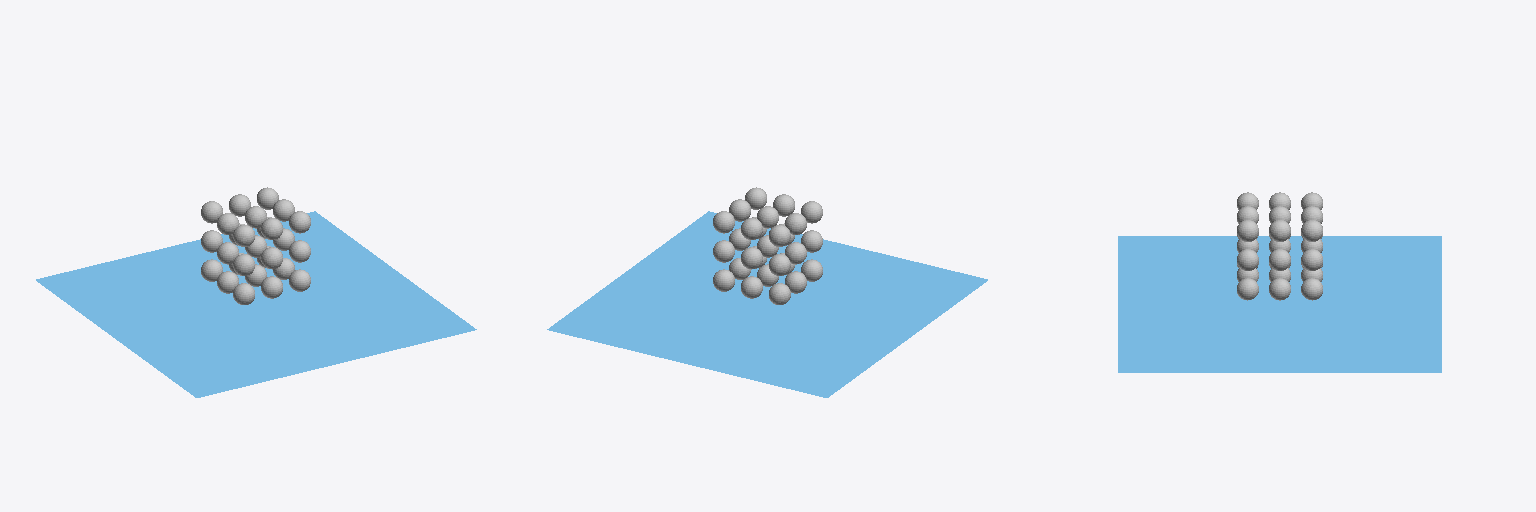
The picture shows the model from 3 angles: view 1: azimuth 30°, elevation 25°; view 2: azimuth 150°, elevation 25°; view 3: azimuth 270°, elevation 25°; orthographic projection.
Visible parts, largest first — view 1: 平面, 平面.011; view 2: 平面, 平面.011; view 3: 平面, 平面.011.
Part boxes in pixels (x1,y1,x2,y2): 平面: (36, 211, 476, 397); 平面.011: (201, 187, 310, 304); 平面: (547, 211, 987, 397); 平面.011: (713, 187, 822, 304); 平面: (1118, 236, 1441, 372); 平面.011: (1237, 192, 1322, 300).
Size of the model in its own units: 10.07 by 3.35 by 10.07.
Materials: 2 (1 with a texture image).